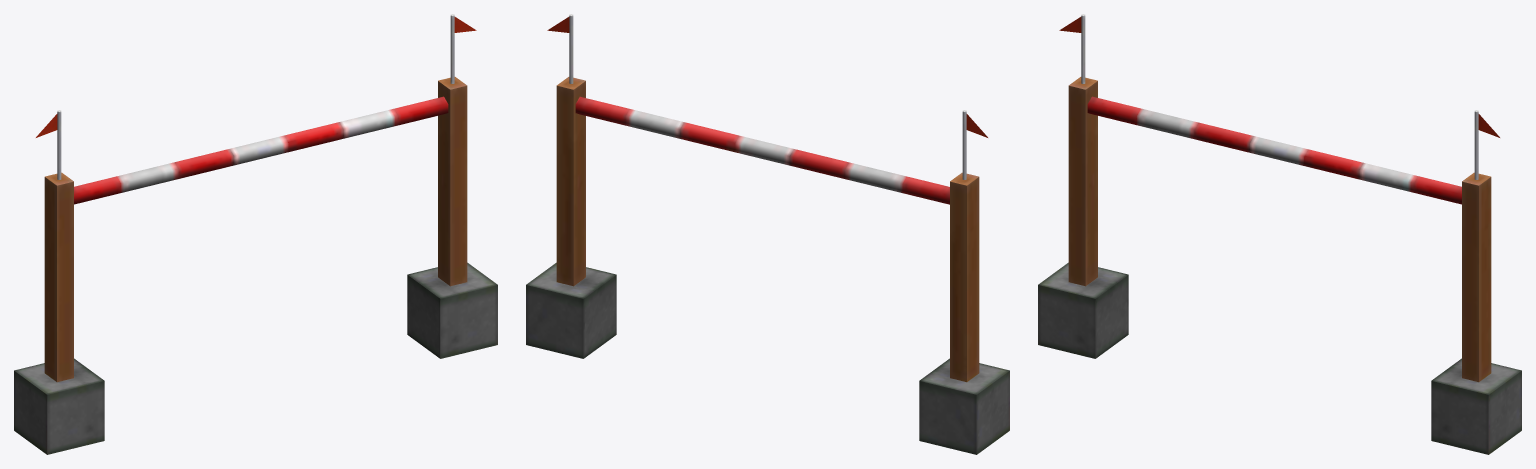
The model's file is jump_obestacle.fbx.
3 renders of one model, left to right at view 1: azimuth 30°, elevation 25°; view 2: azimuth 150°, elevation 25°; view 3: azimuth 330°, elevation 25°, orthographic.
Parts seen in each view (by area): view 1: jump_obestacle, jump_obstacle_stick; view 2: jump_obestacle, jump_obstacle_stick; view 3: jump_obestacle, jump_obstacle_stick.
Part boxes in pixels (<box>): jump_obestacle: <box>14,14,497,454</box>; jump_obstacle_stick: <box>74,96,448,204</box>; jump_obestacle: <box>526,14,1009,454</box>; jump_obstacle_stick: <box>575,96,949,204</box>; jump_obestacle: <box>1038,14,1521,454</box>; jump_obstacle_stick: <box>1087,96,1461,204</box>.
Bounding box in the file's own units: 959 × 661 × 122.
